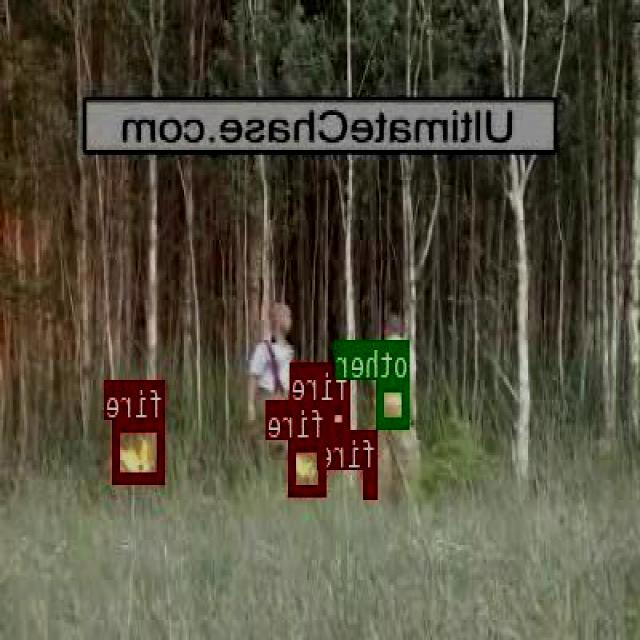fire: (114, 420, 165, 480), (290, 440, 328, 492), (328, 400, 352, 430), (365, 468, 378, 496)
